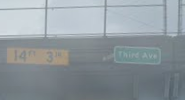1: (11, 48, 19, 62)
3: (44, 48, 54, 65)
4: (18, 49, 27, 62)
overheadsign: (6, 47, 69, 67)
